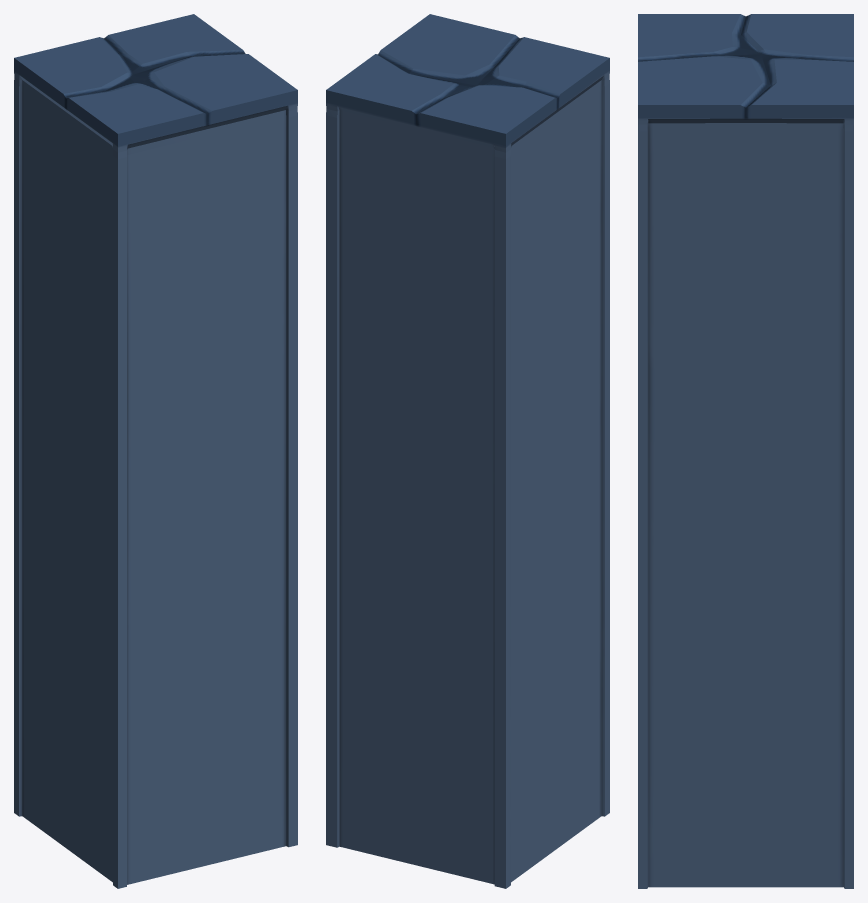
File: WallV1_20220509.obj
The picture shows the model from 3 angles, left to right: view 1: azimuth 30°, elevation 25°; view 2: azimuth 150°, elevation 25°; view 3: azimuth 270°, elevation 25°; orthographic projection. The views are drawn at different scales.
Parts seen in each view (by area): view 1: pCube1; view 2: pCube1; view 3: pCube1.
Boxes of the visible parts, x1,y1,x2,y2 form: pCube1: [14, 14, 297, 888]; pCube1: [326, 14, 609, 888]; pCube1: [638, 14, 853, 888].
Size of the model in its own units: 5 by 20.05 by 5.
